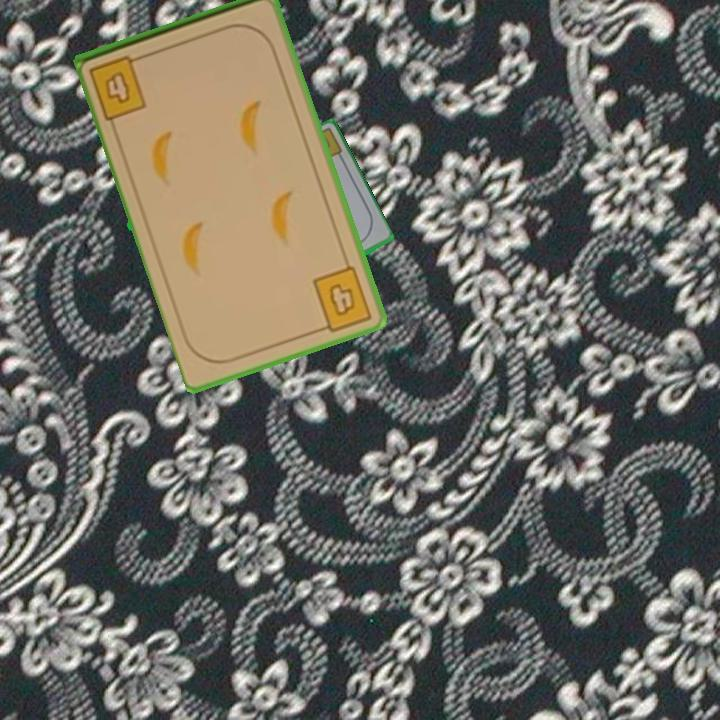4b: (309, 261, 375, 336), (85, 51, 150, 123)
